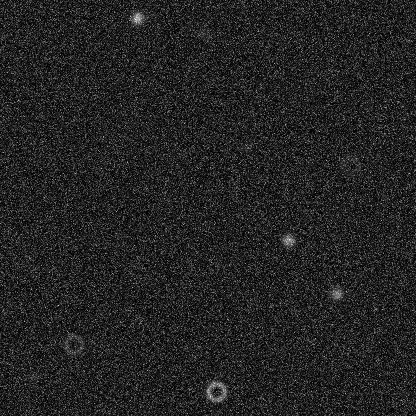Ring: (337, 152, 361, 176), (61, 332, 85, 356), (204, 379, 228, 403)
Spot: (280, 232, 296, 248), (328, 285, 344, 301), (194, 25, 210, 41), (26, 368, 42, 384), (237, 139, 253, 155), (129, 10, 145, 26)
